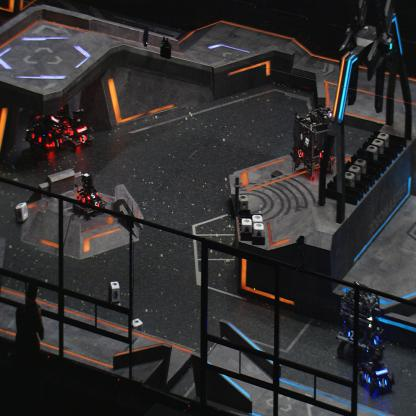car: (335, 280, 386, 360), (290, 106, 335, 180), (26, 92, 70, 156), (356, 343, 397, 400), (71, 171, 106, 220), (62, 108, 94, 150)
